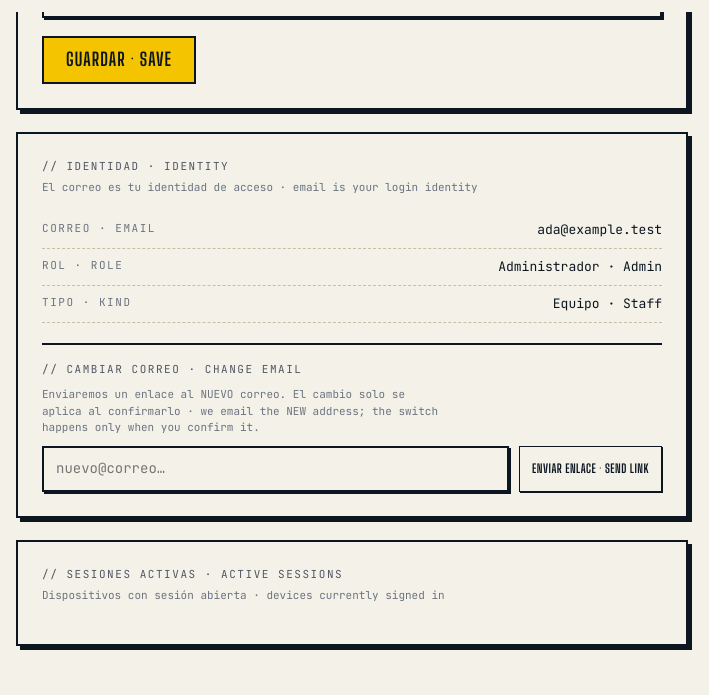
AccountPage (coverage) › surfaces the email-change error message when the request rejects
The image size is (709, 695).
(page scrolled)
In the field named "New email": (276, 469) [42,446,509,492], type "new@example.test"
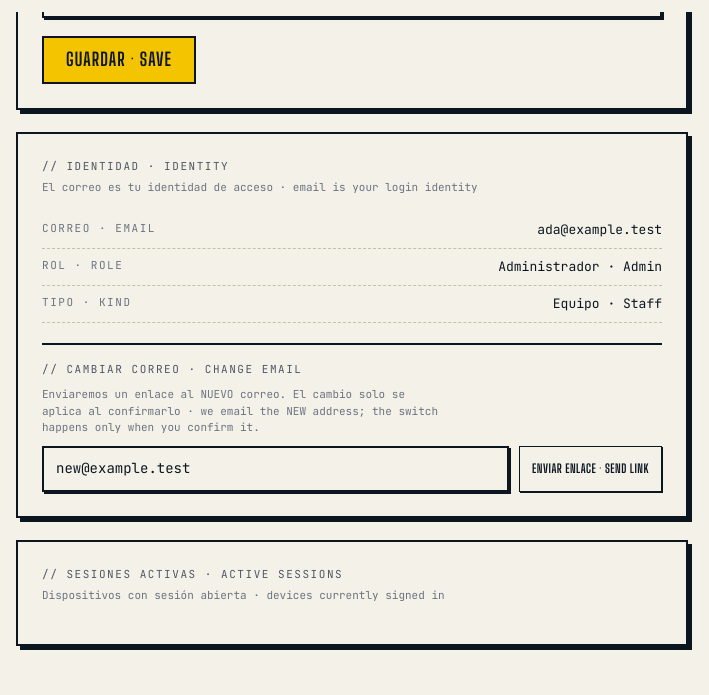
Click the button "Enviar enlace · Send link": (591, 469) [519,446,662,492]
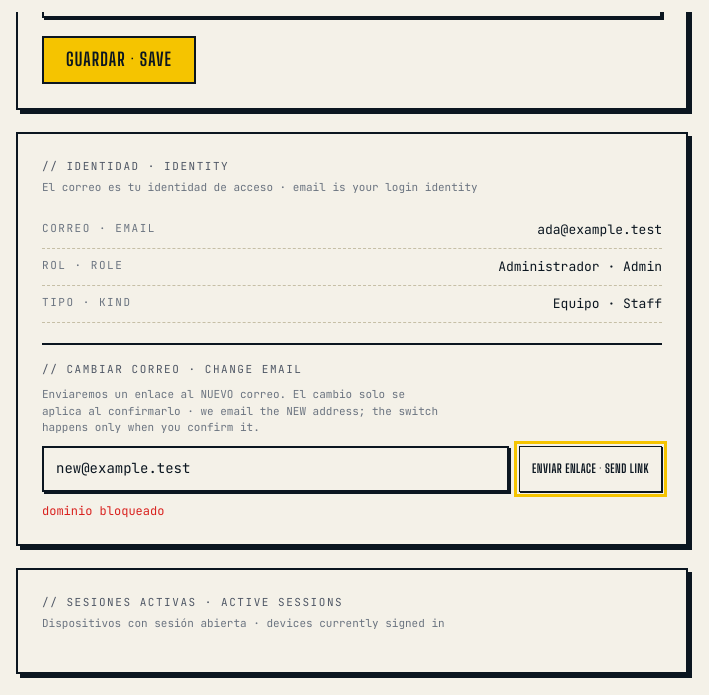
Expected: the text "dominio bloqueado" is shown, [42,503,164,519]
